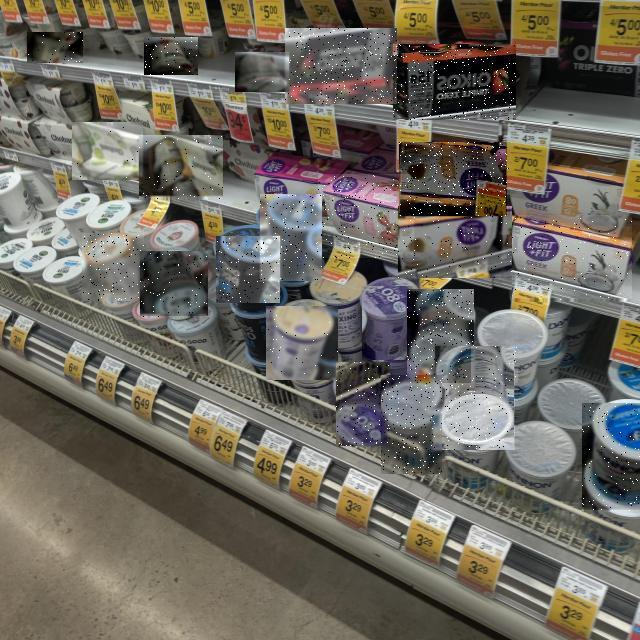Yoghurt: (512, 216, 632, 302), (393, 44, 516, 120), (436, 346, 518, 450), (285, 28, 397, 104), (399, 206, 513, 278), (400, 142, 510, 216), (319, 174, 415, 258), (407, 289, 474, 383), (582, 404, 640, 512), (382, 375, 444, 474), (260, 194, 322, 281), (139, 136, 223, 200), (266, 306, 338, 380), (336, 362, 390, 446), (141, 252, 209, 318), (217, 236, 281, 303), (82, 233, 144, 301), (72, 122, 143, 180), (362, 286, 415, 360), (235, 52, 289, 92), (144, 37, 198, 75), (27, 32, 83, 63)
